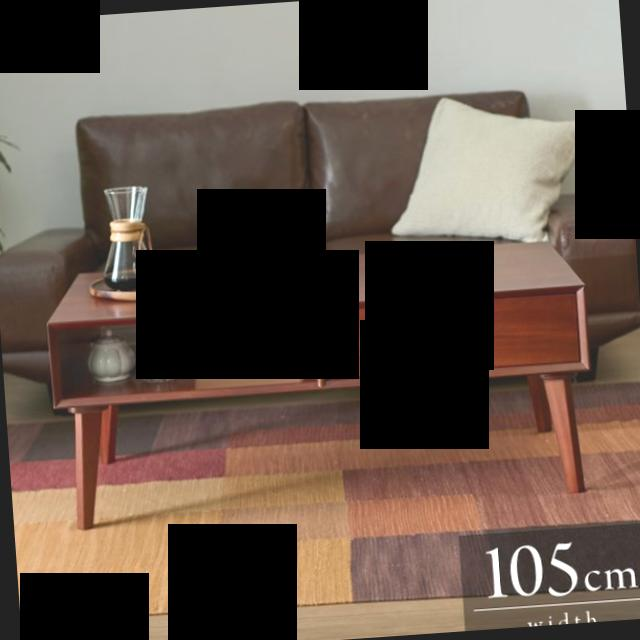vintage shelf: (40, 228, 602, 542)
vintage sofa: (0, 76, 626, 285)
